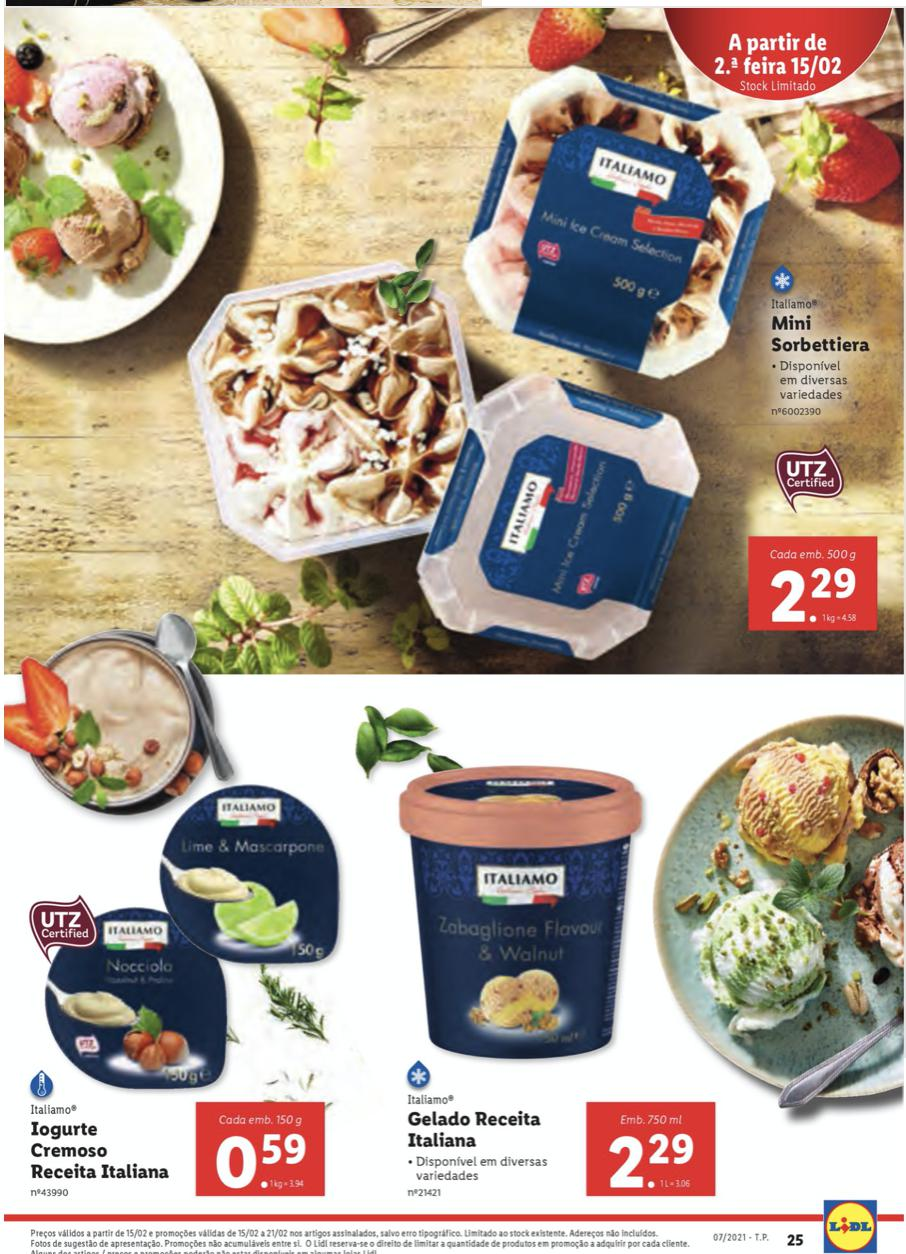name: (24, 1115, 181, 1187), (403, 1109, 546, 1153), (765, 312, 876, 363)
price: (756, 563, 863, 632), (212, 1129, 315, 1193), (606, 1129, 698, 1195)
product: (23, 13, 879, 659), (370, 737, 726, 1207), (15, 760, 345, 1224)
